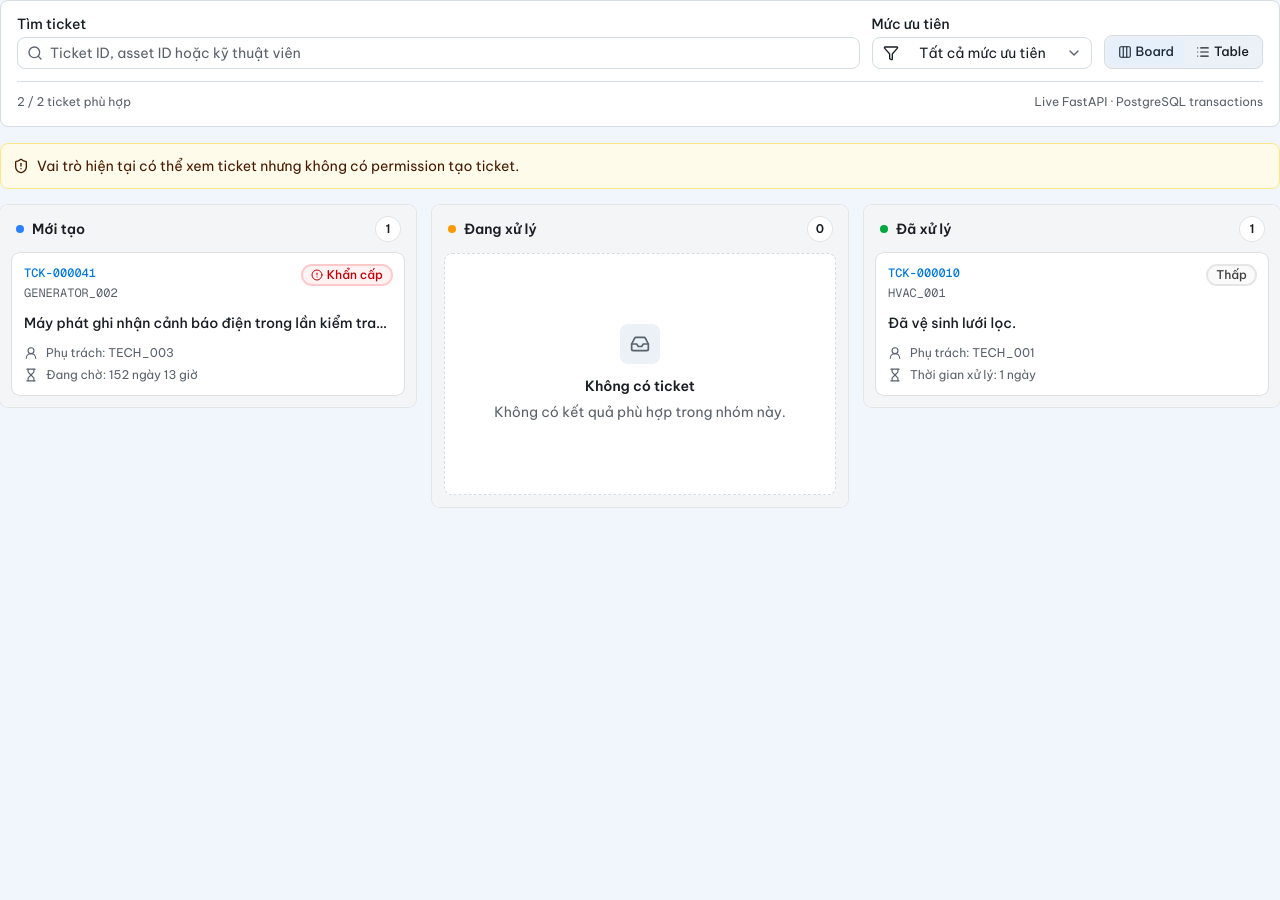
Scenario: permission-aware product UI › lets a technician update assigned work but not reassign it
Click the button with aria-label "Xem chi tiết ticket TCK-000041". click: [208, 324]
box: [12,253,404,395]
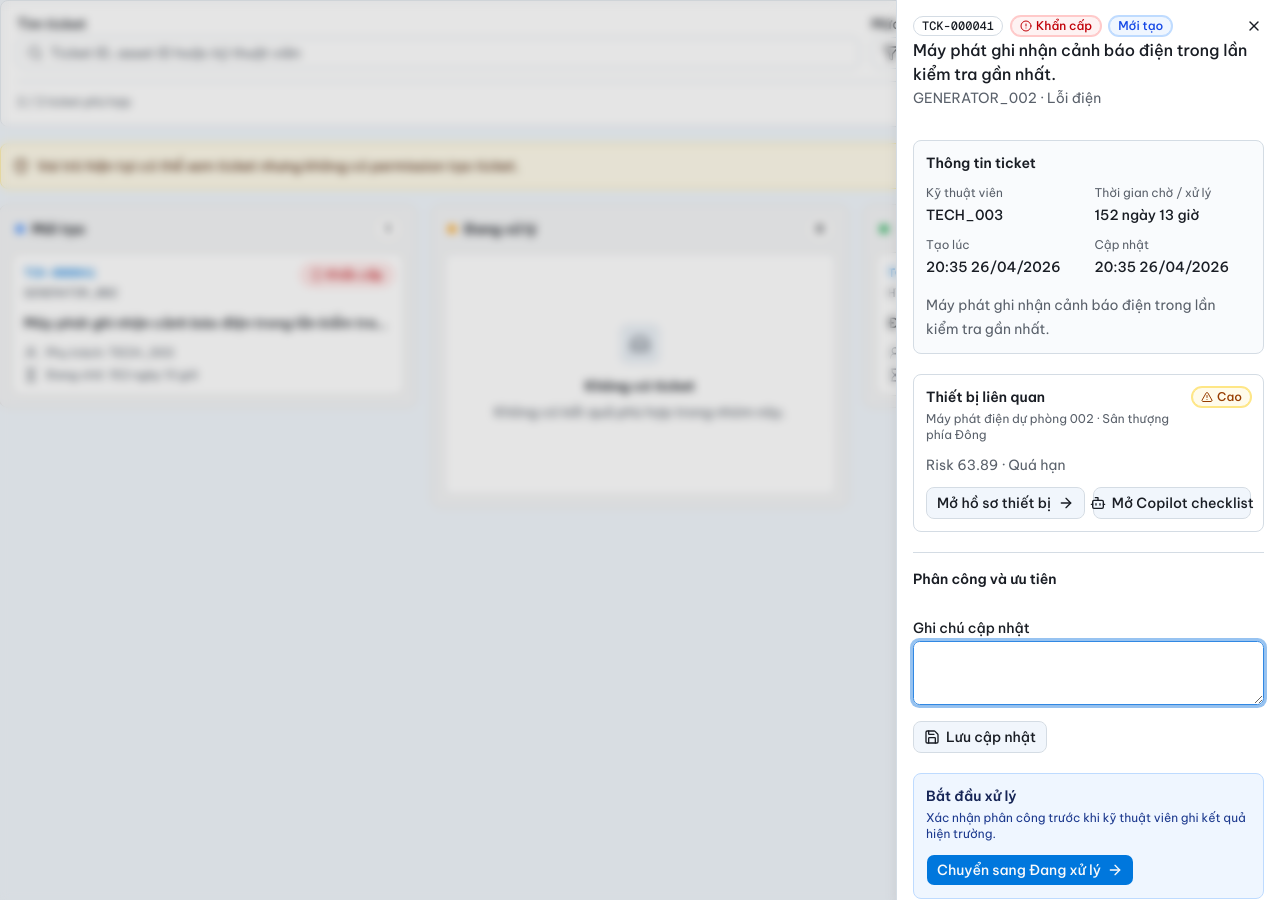
Result: the button "Lưu cập nhật" is shown at [913,721,1047,753]
Result: the button "Chuyển sang Đang xử lý" is shown at [926,854,1134,886]
